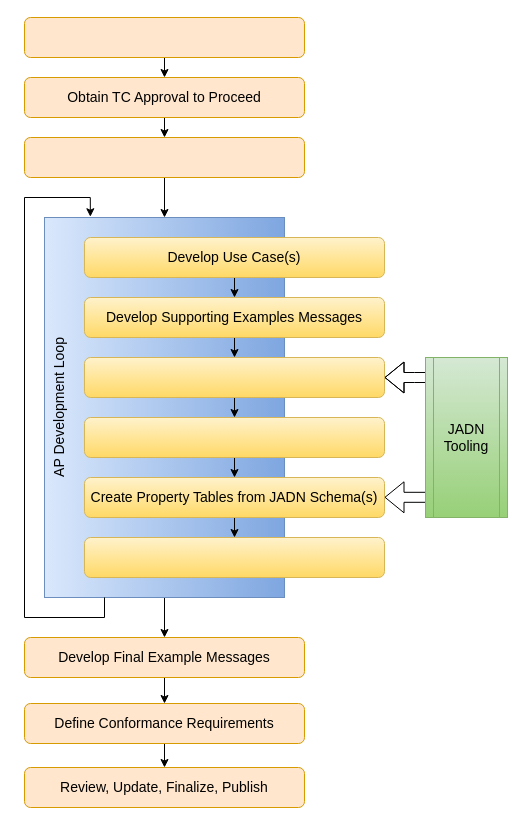
This 525x825 diagram has some shape labels left out. Each missing label, with the box of its shape:
Add Property Tables & Text to Document: (84, 536, 384, 578)
Define JADN Schema(s) Matching Examples: (84, 356, 384, 398)
Identify AP Requirements & Scope: (24, 16, 304, 58)
Link JADN Schema(s) to Annex A: (84, 416, 384, 458)
Request Starter Doc & Repo from OASIS: (24, 136, 304, 178)
